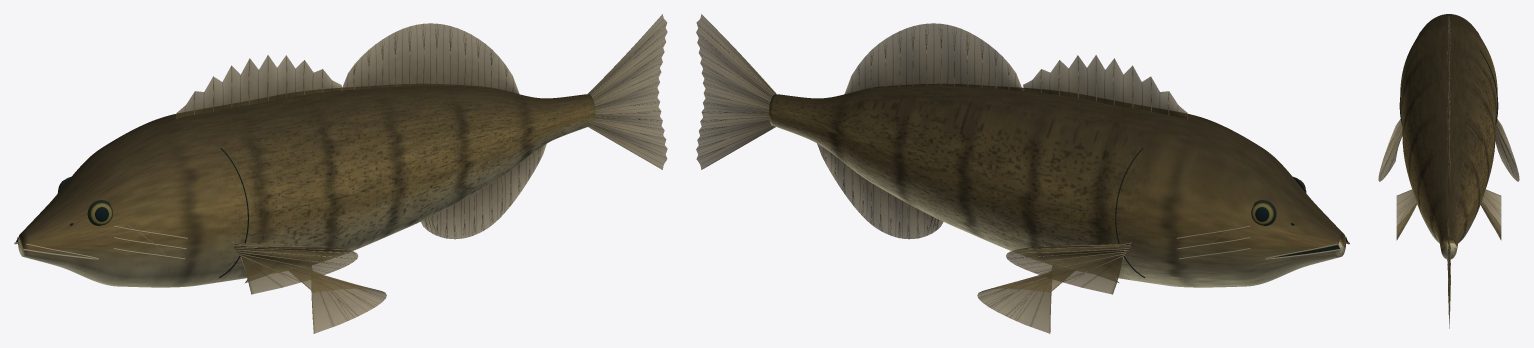
Rendered from smallmouth.glb.
The picture shows the model from 3 angles, left to right: view 1: azimuth 30°, elevation 25°; view 2: azimuth 150°, elevation 25°; view 3: azimuth 270°, elevation 25°; orthographic projection. The views are drawn at different scales.
Parts seen in each view (by area): view 1: smallmouth specimen; view 2: smallmouth specimen; view 3: smallmouth specimen.
Part boxes in pixels (box(x1,y1,x2,y2)): smallmouth specimen: box(14, 14, 667, 333); smallmouth specimen: box(696, 14, 1349, 333); smallmouth specimen: box(1378, 14, 1519, 328).
Size of the model in its own units: 2.31 by 0.8767 by 0.576.
Materials: 10 (6 with a texture image).
